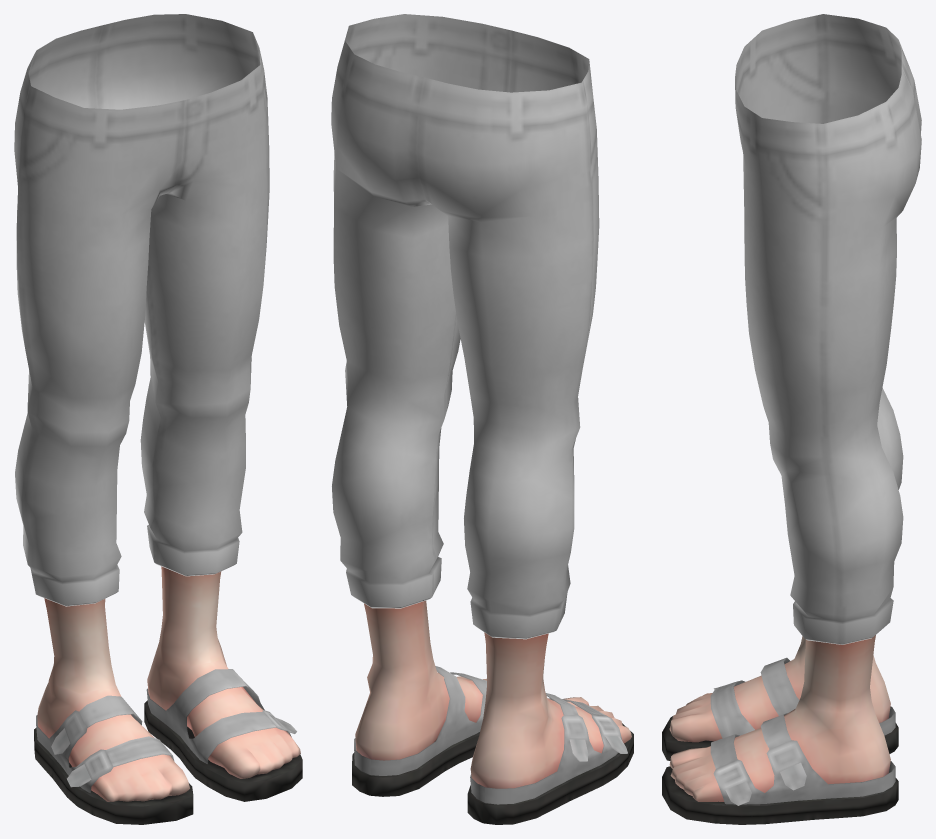
File: tr0780_00_lwb01.gltf
3 renders of one model, left to right at view 1: azimuth 30°, elevation 25°; view 2: azimuth 150°, elevation 25°; view 3: azimuth 270°, elevation 25°, orthographic. The views are drawn at different scales.
Visible parts, largest first — view 1: lwb01_lowerbody_mesh_shape:lowerbody01, lwb01_lowerskin_mesh_shape:lowerbody01_skin, lwb01_shoes_mesh_shape:lowerbody01; view 2: lwb01_lowerbody_mesh_shape:lowerbody01, lwb01_lowerskin_mesh_shape:lowerbody01_skin, lwb01_shoes_mesh_shape:lowerbody01; view 3: lwb01_lowerbody_mesh_shape:lowerbody01, lwb01_lowerskin_mesh_shape:lowerbody01_skin, lwb01_shoes_mesh_shape:lowerbody01.
Boxes of the visible parts, x1,y1,x2,y2 form: lwb01_lowerbody_mesh_shape:lowerbody01: [14, 14, 269, 606]; lwb01_lowerskin_mesh_shape:lowerbody01_skin: [37, 566, 300, 801]; lwb01_shoes_mesh_shape:lowerbody01: [34, 669, 302, 824]; lwb01_lowerbody_mesh_shape:lowerbody01: [331, 14, 599, 639]; lwb01_lowerskin_mesh_shape:lowerbody01_skin: [355, 600, 631, 788]; lwb01_shoes_mesh_shape:lowerbody01: [352, 666, 633, 824]; lwb01_lowerbody_mesh_shape:lowerbody01: [735, 14, 921, 644]; lwb01_lowerskin_mesh_shape:lowerbody01_skin: [669, 635, 890, 801]; lwb01_shoes_mesh_shape:lowerbody01: [662, 657, 898, 824].
Size of what is drawn, in the model's own units: 0.3437 by 0.9313 by 0.3087.
2 materials, 2 textured.
